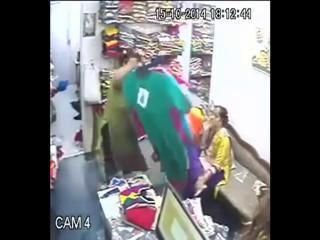Normal: (111, 33, 204, 199)
